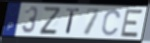3: (22, 6, 38, 36)
7: (82, 8, 100, 37)
C: (101, 8, 122, 37)
E: (119, 8, 145, 39)
T: (65, 8, 81, 36)
Z: (38, 6, 61, 36)
